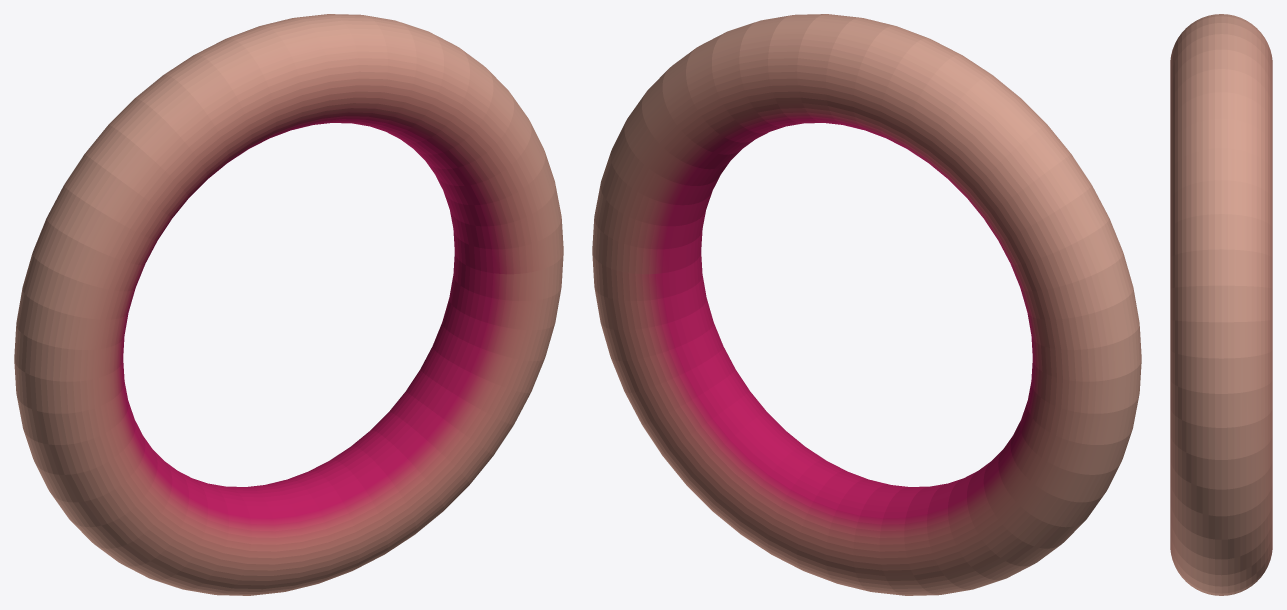
3 renders of one model, left to right at view 1: azimuth 30°, elevation 25°; view 2: azimuth 150°, elevation 25°; view 3: azimuth 270°, elevation 25°, orthographic. The views are drawn at different scales.
Visible parts, largest first — view 1: world; view 2: world; view 3: world.
Part boxes in pixels (x1,y1,x2,y2): world: (14,14,563,595); world: (592,14,1141,595); world: (1170,14,1272,595).
Size of the model in its own units: 34 by 33.93 by 5.99.
